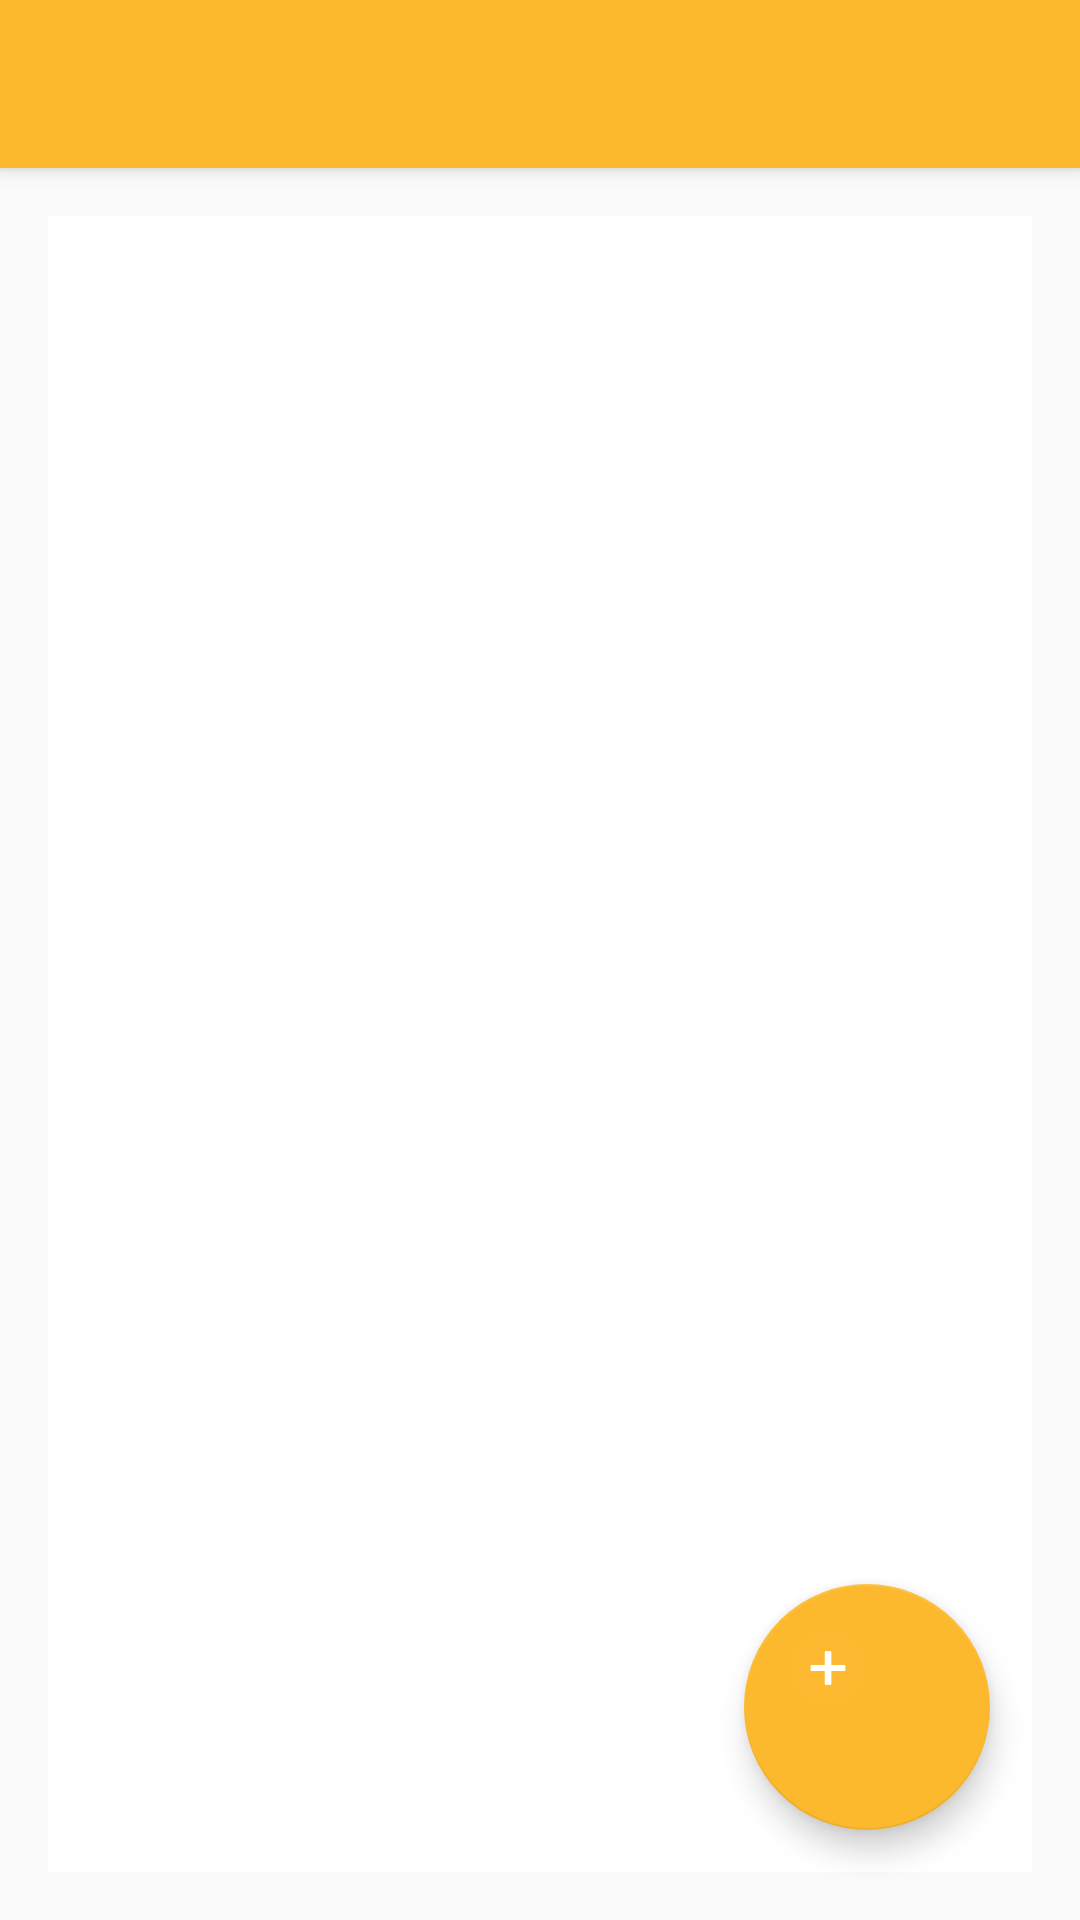

Icon bounding boxes for this 1080 × 1920 phone screenshot, format [left=x1, top=y1, right=x2, bottom=y2]:
add plusbtn: [left=744, top=1584, right=990, bottom=1830]
